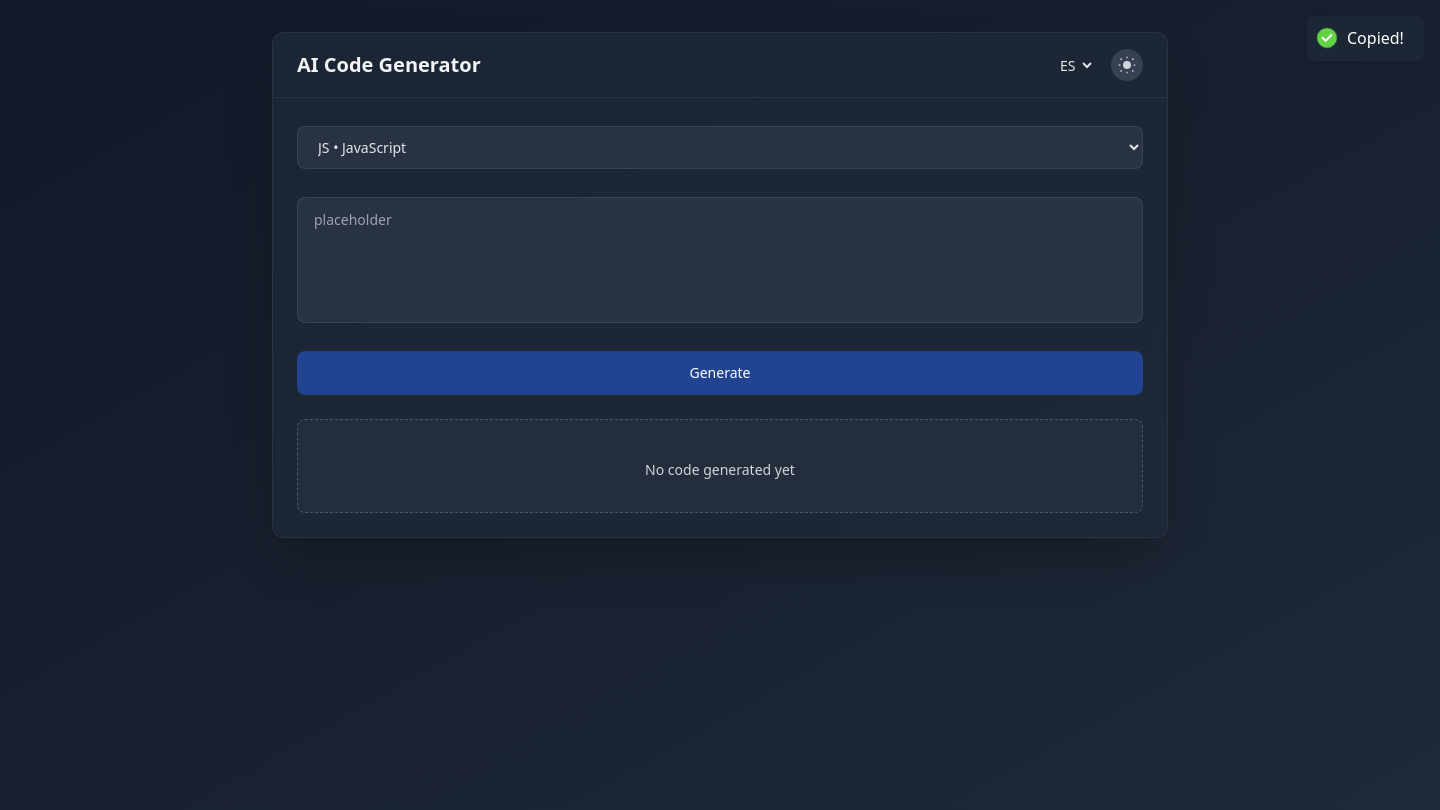
Test case: App › displays generated code
The image size is (1440, 810).
Type "print hello" into the text box with placeholder "placeholder" at (720, 260), box [297,197,1143,323]
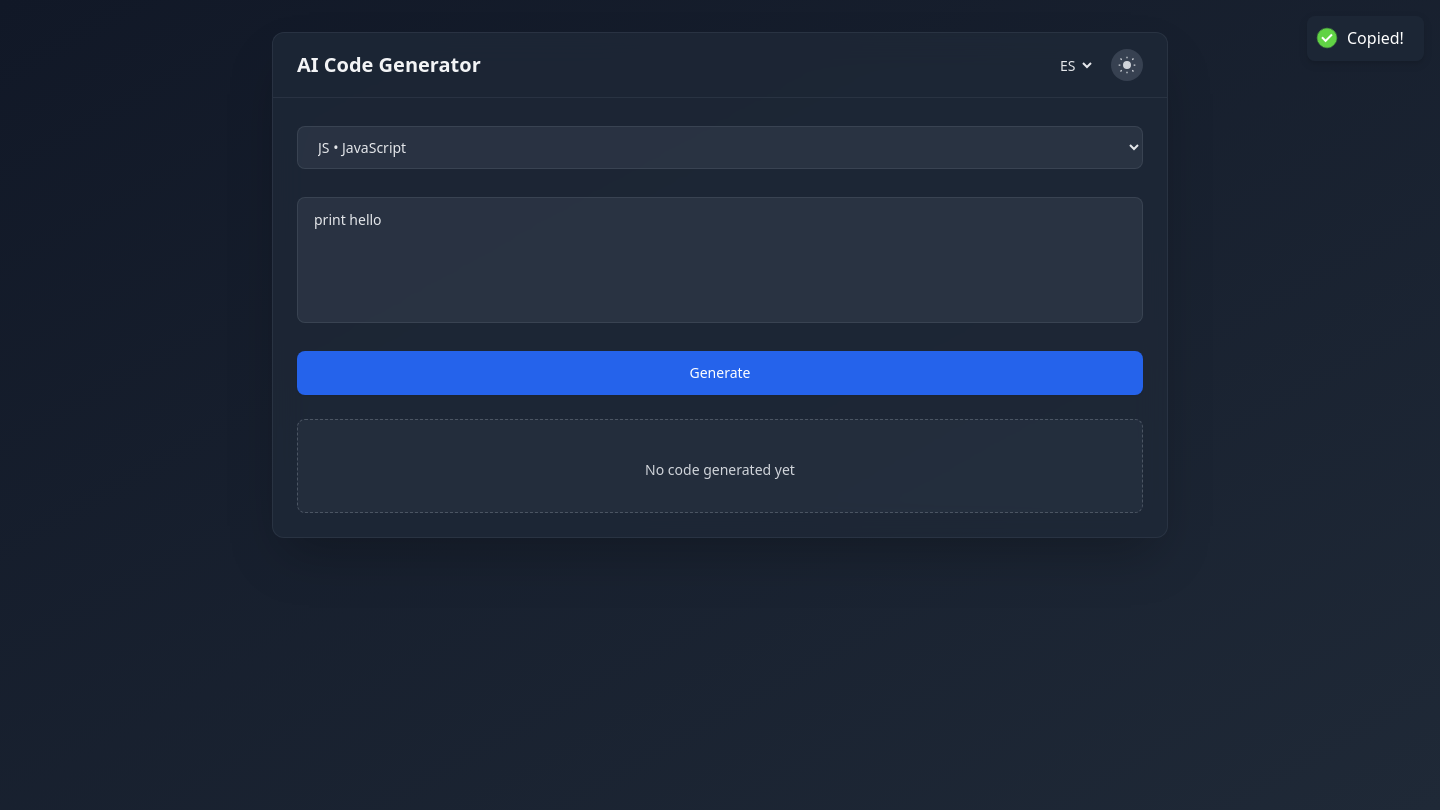
Click the button "Generate" at (720, 373), box [297,351,1143,395]
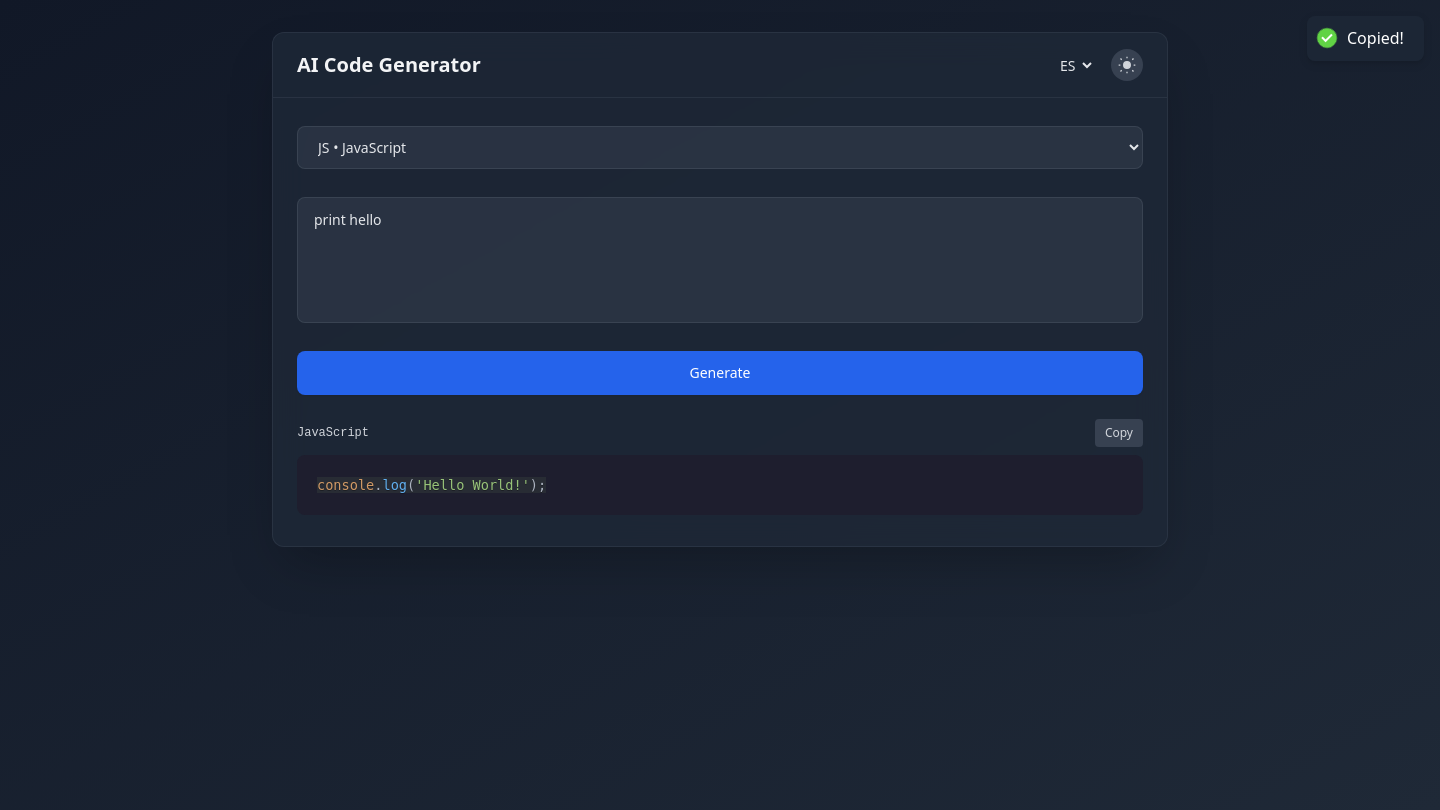
Expected: the text "'Hello World!'" is shown, [415,477,530,493]
